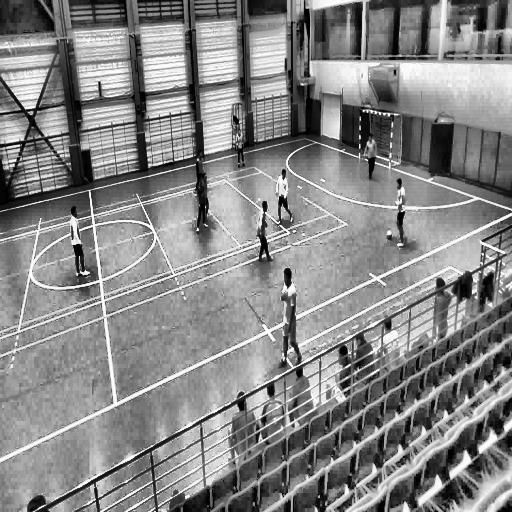ball: (386, 227, 393, 241)
player: (279, 266, 301, 367), (69, 203, 91, 278), (256, 199, 273, 265), (276, 168, 294, 227), (362, 132, 378, 184), (195, 176, 209, 234), (395, 177, 406, 247), (194, 150, 207, 193), (200, 172, 210, 225), (235, 125, 245, 169)
